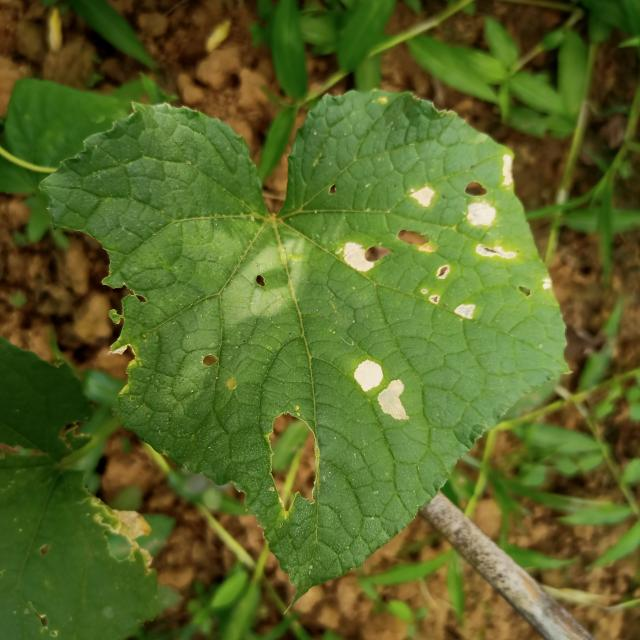disease_cucumber: (342, 152, 552, 320), (351, 362, 408, 422)
